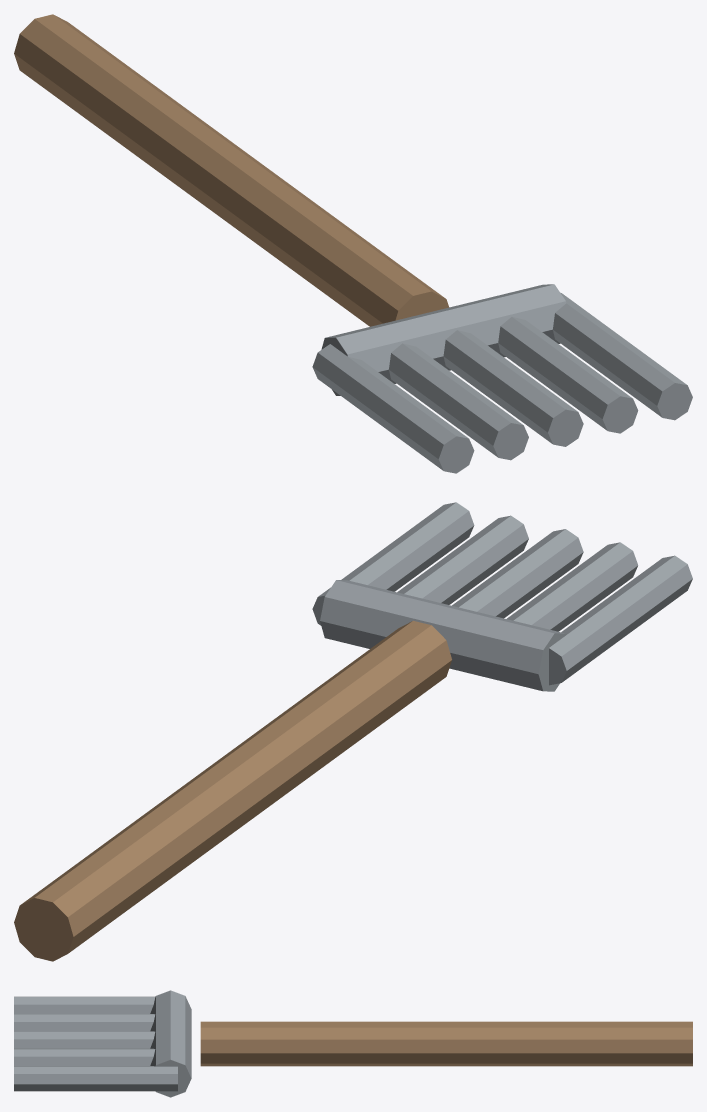
File: pitchfork.glb
The picture shows the model from 3 angles, top to bottom: view 1: azimuth 30°, elevation 25°; view 2: azimuth 150°, elevation 25°; view 3: azimuth 270°, elevation 25°; orthographic projection. The views are drawn at different scales.
Visible parts, largest first — view 1: 00_handle, 01_crossbar, 02_tine, 06_tine, 04_tine, 05_tine, 03_tine; view 2: 00_handle, 01_crossbar, 02_tine, 06_tine, 03_tine, 04_tine, 05_tine; view 3: 00_handle, 06_tine, 01_crossbar, 02_tine, 05_tine, 04_tine, 03_tine.
Part boxes in pixels (box(x1,y1,x2,y2)): 00_handle: box(14, 14, 449, 326); 01_crossbar: box(321, 284, 566, 395); 02_tine: box(312, 344, 474, 473); 06_tine: box(553, 292, 692, 420); 04_tine: box(443, 330, 583, 446); 05_tine: box(498, 317, 638, 433); 03_tine: box(389, 343, 528, 460); 00_handle: box(14, 620, 451, 961); 01_crossbar: box(320, 580, 566, 691); 02_tine: box(549, 555, 692, 685); 06_tine: box(312, 502, 474, 625); 03_tine: box(507, 542, 638, 631); 04_tine: box(452, 529, 583, 618); 05_tine: box(397, 515, 528, 604); 00_handle: box(200, 1021, 692, 1066); 06_tine: box(14, 1066, 177, 1091); 01_crossbar: box(150, 990, 191, 1097); 02_tine: box(14, 996, 155, 1013); 05_tine: box(14, 1048, 155, 1065); 04_tine: box(14, 1031, 155, 1048); 03_tine: box(14, 1014, 155, 1031).
Size of the model in its own units: 0.256 by 0.0571 by 0.91.
